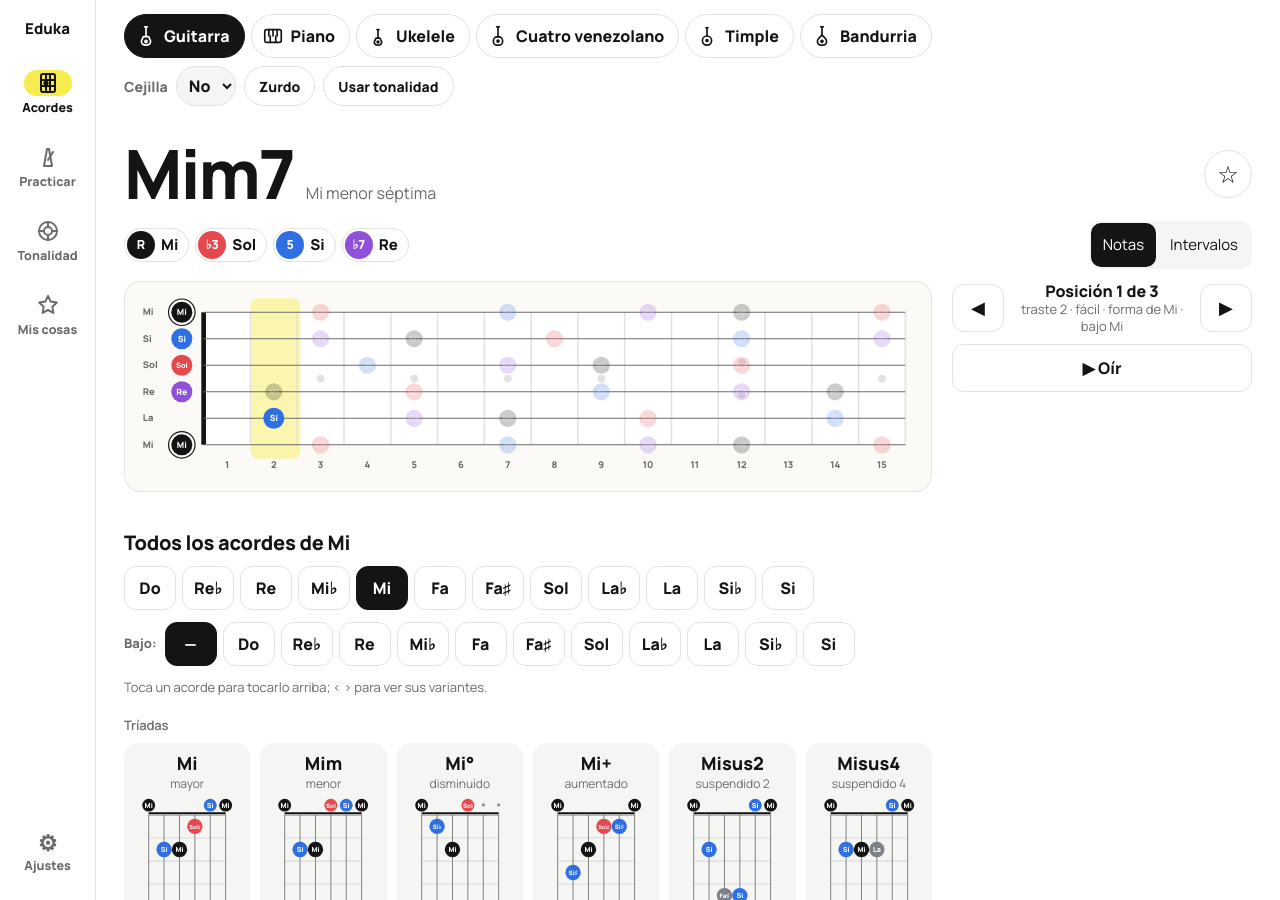
Test case: Acordes sin tonalidad (por defecto) › no hay tira, Siguiente ni panel de cambio; el interruptor los muestra
The image size is (1280, 900).
Expected: the button "Al siguiente acorde" is not shown
Type keys "n"
Click the button "Usar tonalidad": click(388, 86) [323,66,454,106]
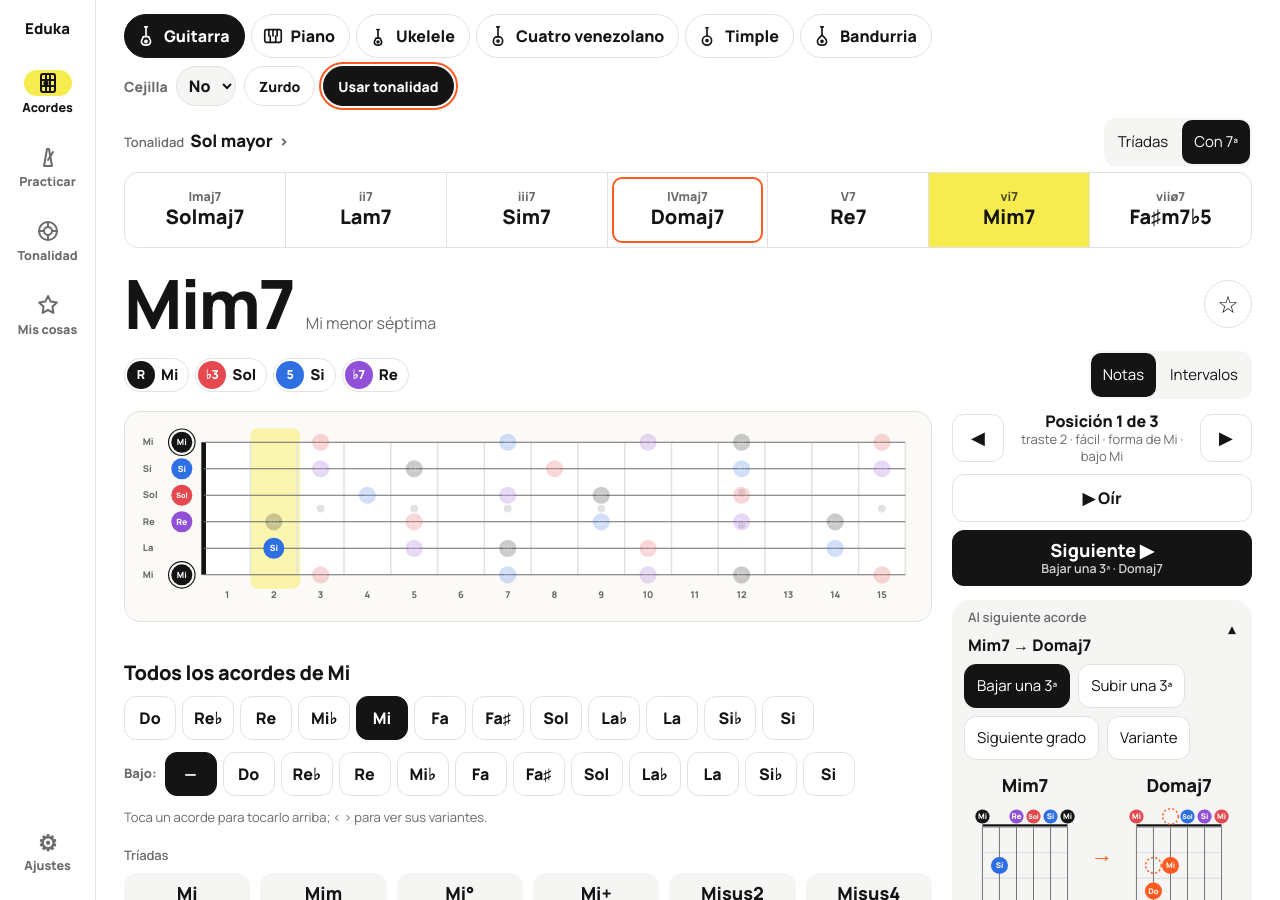
Expected: the button "Siguiente ▶ Bajar una 3ª · Domaj7" is shown, [952,530,1252,586]
